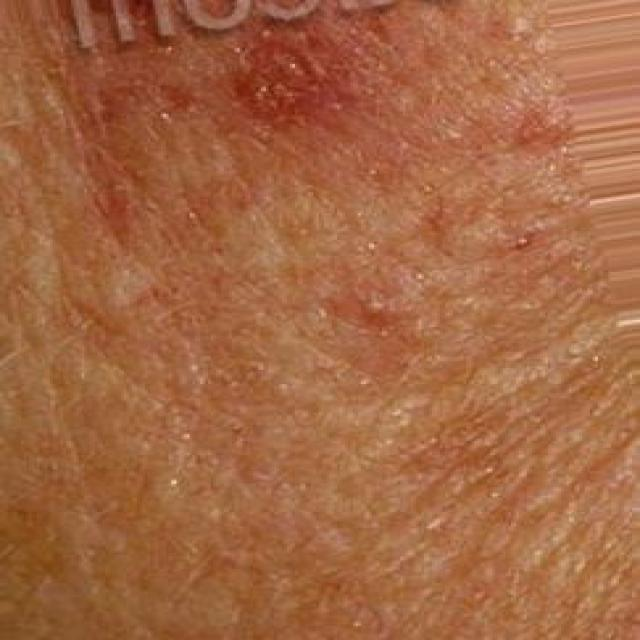Rosacea: (38, 24, 340, 234)
